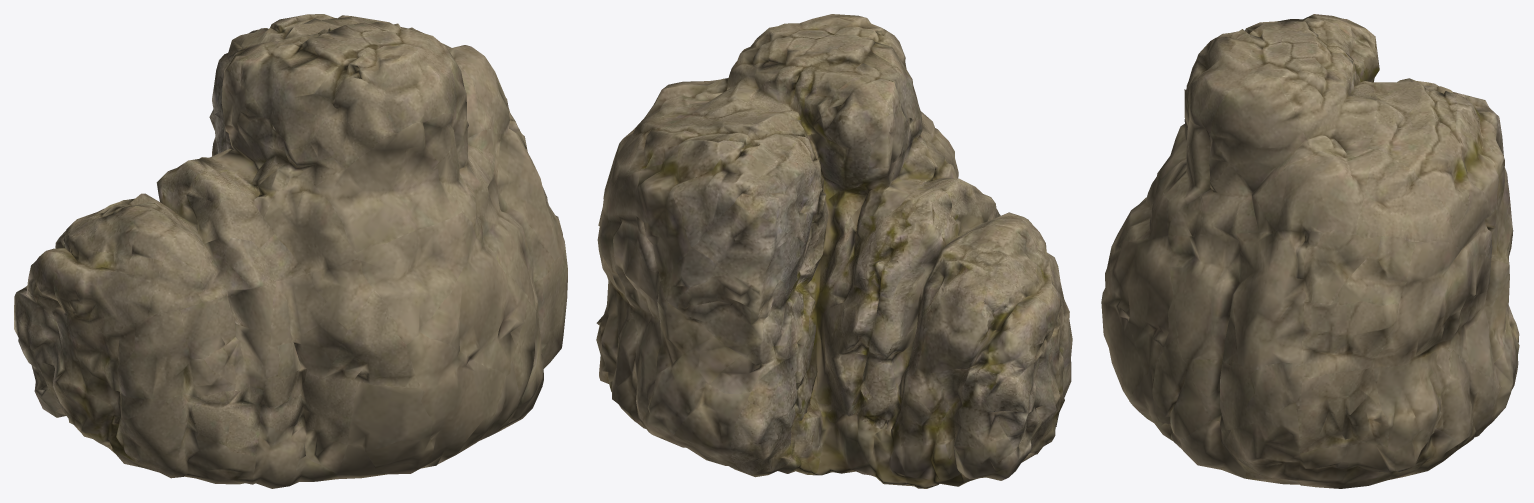
The model's file is pena_alto.glb.
3 renders of one model, left to right at view 1: azimuth 30°, elevation 25°; view 2: azimuth 150°, elevation 25°; view 3: azimuth 270°, elevation 25°, orthographic. The views are drawn at different scales.
Visible parts, largest first — view 1: alto; view 2: alto; view 3: alto.
Boxes of the visible parts, x1,y1,x2,y2 form: alto: (14, 14, 567, 488); alto: (596, 14, 1072, 488); alto: (1101, 14, 1519, 488).
Bounding box in the file's own units: 2.8 × 2.09 × 2.15.
Materials: 1 (1 with a texture image).
